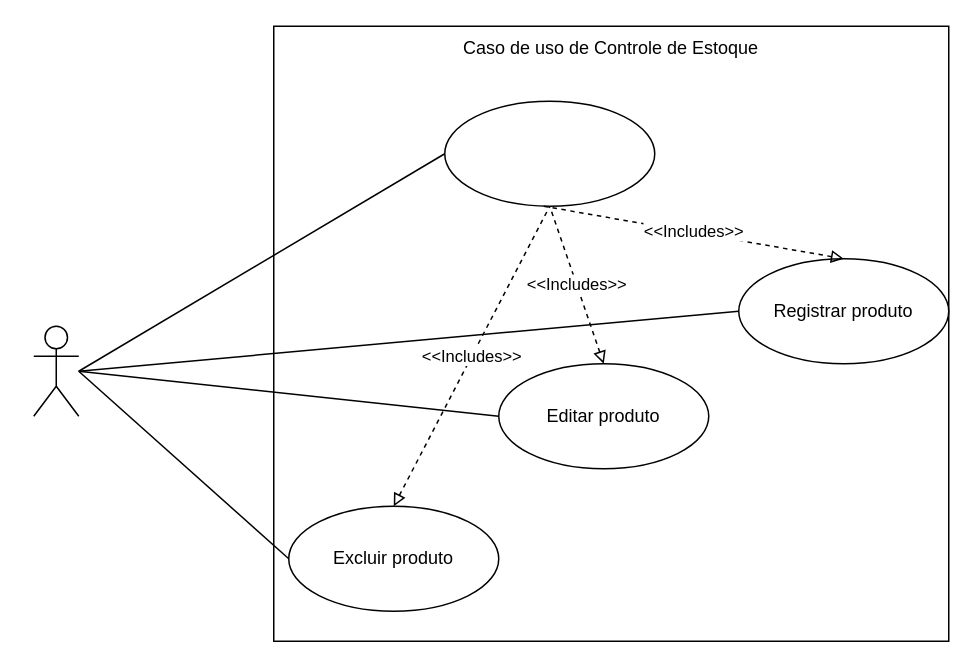
Some shapes in this 975 by 668 pixel diagram are drawn without their labels. Here are the shapes that lost their labels. From the top down, the centre of each, then its label:
At point (549, 153): "Visualizar Produto".
At point (55, 370): "Usuário".
